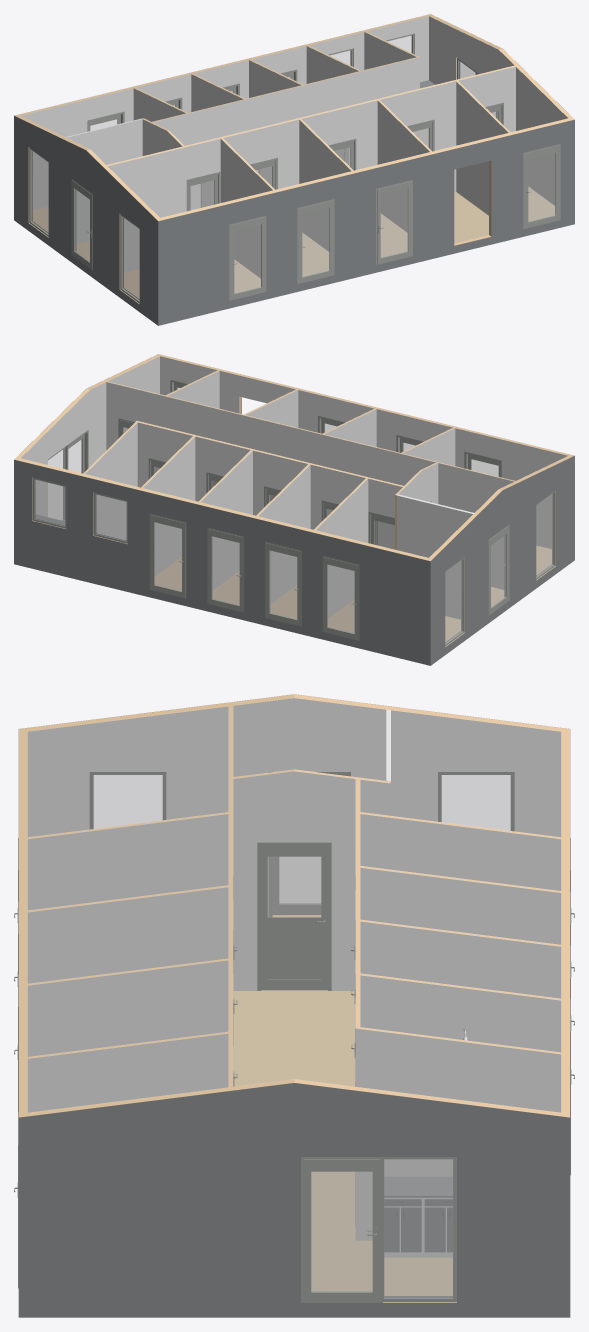
The model's file is Šuniukai(7,2x12,0m)_R01.fbx.
The picture shows the model from 3 angles, top to bottom: view 1: azimuth 30°, elevation 25°; view 2: azimuth 150°, elevation 25°; view 3: azimuth 270°, elevation 25°; orthographic projection. The views are drawn at different scales.
Parts seen in each view (by area): view 1: IfcBuildingElementPart/Part:2336143, IfcBuildingElementPart/Part:2336140, IfcBuildingElementPart/Part:2336148, IfcBuildingElementPart/Part:2336132, IfcBuildingElementPart/Part:2336145, IfcBuildingElementPart/Part:2336129, IfcBuildingElementPart/Part:2336151, IfcWindow/Aluprof_MB-86-SI_E_Alu_Window-1sash-FIX_ENG_R-000. (×2), IfcBuildingElementPart/Part:2336094, IfcBuildingElementPart/Part:2336127, IfcDoor/Simple_vitree_-_1:1000x2100:2324002, IfcDoor/Simple_vitree_-_1:1000x2100:2323598 (+23 smaller); view 2: IfcBuildingElementPart/Part:2336149, IfcBuildingElementPart/Part:2336140, IfcBuildingElementPart/Part:2336123, IfcBuildingElementPart/Part:2336142, IfcBuildingElementPart/Part:2336145, IfcWallStandardCase/Basic Wall:Sandwich - vidines sienos 60m, IfcBuildingElementPart/Part:2336151, IfcWindow/Aluprof_MB-86-SI_E_Alu_Window-1sash-FIX_ENG_R-000. (×2), IfcBuildingElementPart/Part:2336124, IfcBuildingElementPart/Part:2336106, IfcDoor/Simple_vitree_-_1:1000x2100:2322019, IfcDoor/Simple_vitree_-_1:1000x2100:2322092 (+28 smaller); view 3: IfcBuildingElementPart/Part:2336146, IfcBuildingElementPart/Part:2336139, IfcBuildingElementPart/Part:2336151, IfcBuildingElementPart/Part:2337008, IfcBuildingElementPart/Part:2336105, IfcBuildingElementPart/Part:2336102, IfcBuildingElementPart/Part:2336096, IfcBuildingElementPart/Part:2336099, IfcDoor/Simple_vitree_-_1:1000x2100:2323244, IfcDoor/Simple_vitree_-_1_iki puses:900x2100 nepermatomos du, IfcBuildingElementPart/Part:2336093, IfcWindow/Aluprof_MB-86-SI_E_Alu_Window-1sash-FIX_ENG_R-0004 (+15 smaller).
Boxes of the visible parts, left/top/right/bottom form: IfcBuildingElementPart/Part:2336143: left=158, top=119, right=574, bottom=325; IfcBuildingElementPart/Part:2336140: left=14, top=115, right=158, bottom=325; IfcBuildingElementPart/Part:2336148: left=20, top=16, right=428, bottom=209; IfcBuildingElementPart/Part:2336132: left=153, top=57, right=419, bottom=210; IfcBuildingElementPart/Part:2336145: left=429, top=16, right=567, bottom=205; IfcBuildingElementPart/Part:2336129: left=107, top=138, right=220, bottom=272; IfcBuildingElementPart/Part:2336151: left=33, top=187, right=555, bottom=298; IfcWindow/Aluprof_MB-86-SI_E_Alu_Window-1sash-FIX_ENG_R-000. (×2): left=29, top=147, right=139, bottom=303; IfcBuildingElementPart/Part:2336094: left=456, top=81, right=508, bottom=215; IfcBuildingElementPart/Part:2336127: left=380, top=81, right=456, bottom=192; IfcDoor/Simple_vitree_-_1:1000x2100:2324002: left=297, top=199, right=334, bottom=283; IfcDoor/Simple_vitree_-_1:1000x2100:2323598: left=523, top=143, right=560, bottom=228; IfcBuildingElementPart/Part:2336149: left=14, top=459, right=430, bottom=665; IfcBuildingElementPart/Part:2336140: left=430, top=455, right=574, bottom=665; IfcBuildingElementPart/Part:2336123: left=106, top=382, right=435, bottom=549; IfcBuildingElementPart/Part:2336142: left=160, top=356, right=568, bottom=548; IfcBuildingElementPart/Part:2336145: left=21, top=356, right=159, bottom=516; IfcWallStandardCase/Basic Wall:Sandwich - vidines sienos 60m: left=397, top=494, right=473, bottom=619; IfcBuildingElementPart/Part:2336151: left=155, top=545, right=551, bottom=641; IfcWindow/Aluprof_MB-86-SI_E_Alu_Window-1sash-FIX_ENG_R-000. (×2): left=445, top=490, right=555, bottom=646; IfcBuildingElementPart/Part:2336124: left=438, top=463, right=514, bottom=589; IfcBuildingElementPart/Part:2336106: left=85, top=422, right=137, bottom=539; IfcDoor/Simple_vitree_-_1:1000x2100:2322019: left=207, top=527, right=244, bottom=612; IfcDoor/Simple_vitree_-_1:1000x2100:2322092: left=149, top=513, right=186, bottom=598; IfcBuildingElementPart/Part:2336146: left=18, top=1083, right=569, bottom=1317; IfcBuildingElementPart/Part:2336139: left=27, top=698, right=561, bottom=916; IfcBuildingElementPart/Part:2336151: left=233, top=990, right=452, bottom=1295; IfcBuildingElementPart/Part:2337008: left=233, top=771, right=355, bottom=990; IfcBuildingElementPart/Part:2336105: left=356, top=1028, right=561, bottom=1240; IfcBuildingElementPart/Part:2336102: left=27, top=814, right=228, bottom=910; IfcBuildingElementPart/Part:2336096: left=27, top=960, right=228, bottom=1056; IfcBuildingElementPart/Part:2336099: left=27, top=887, right=228, bottom=983; IfcDoor/Simple_vitree_-_1:1000x2100:2323244: left=301, top=1157, right=382, bottom=1302; IfcDoor/Simple_vitree_-_1_iki puses:900x2100 nepermatomos du: left=257, top=842, right=331, bottom=990; IfcBuildingElementPart/Part:2336093: left=27, top=1033, right=228, bottom=1112; IfcWindow/Aluprof_MB-86-SI_E_Alu_Window-1sash-FIX_ENG_R-0004: left=383, top=1157, right=456, bottom=1301.
Size of the model in its own units: 1212 by 338 by 732.
